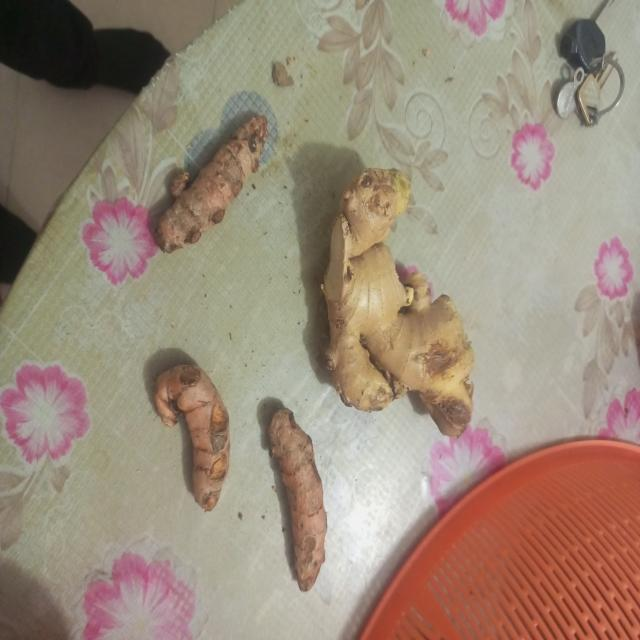ginger: (332, 178, 478, 424), (159, 118, 273, 244), (154, 350, 233, 510), (273, 410, 329, 585)
